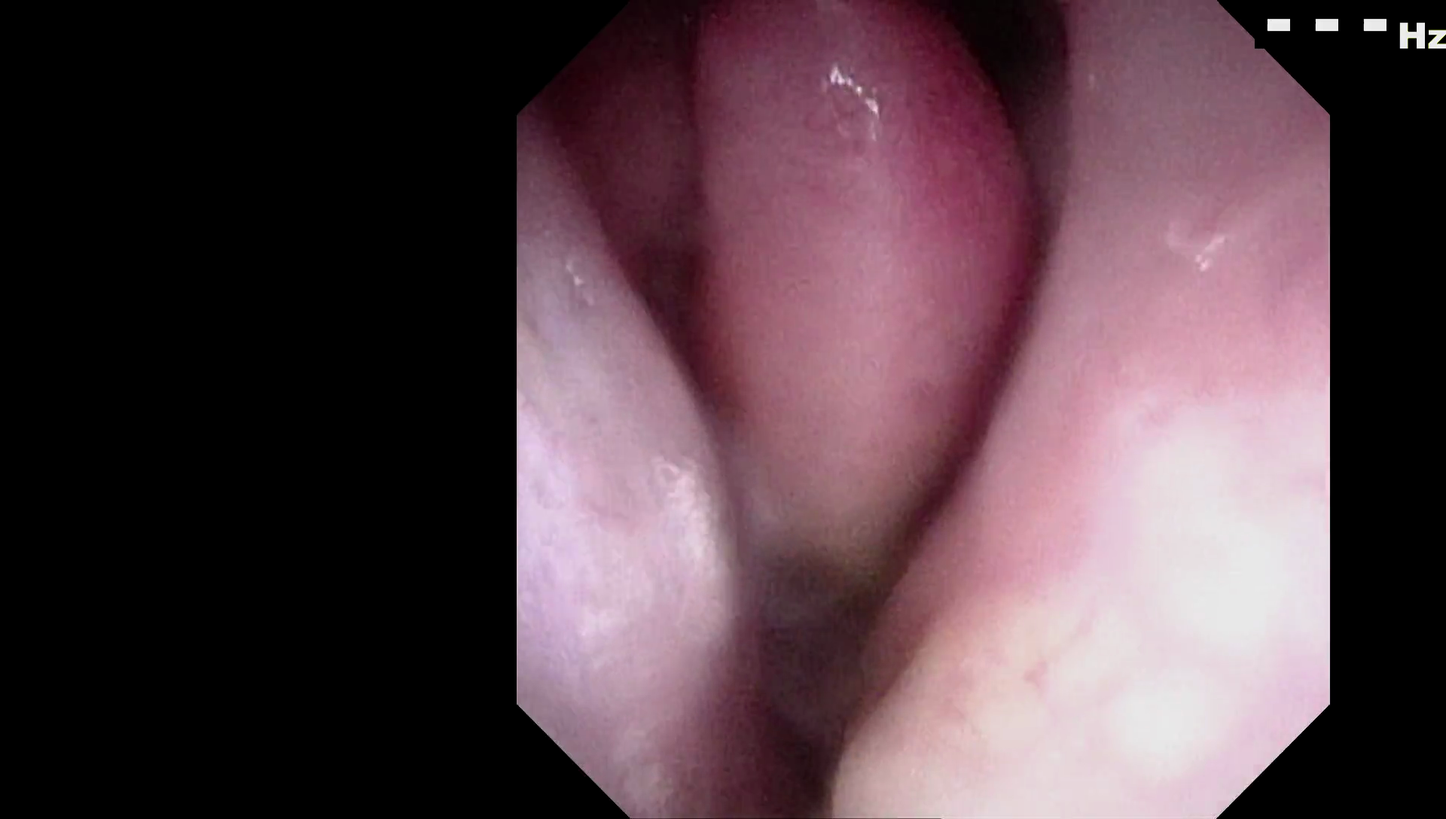close_wall: (879, 349, 1324, 695)
next: (685, 470, 916, 819), (906, 0, 1099, 120)
